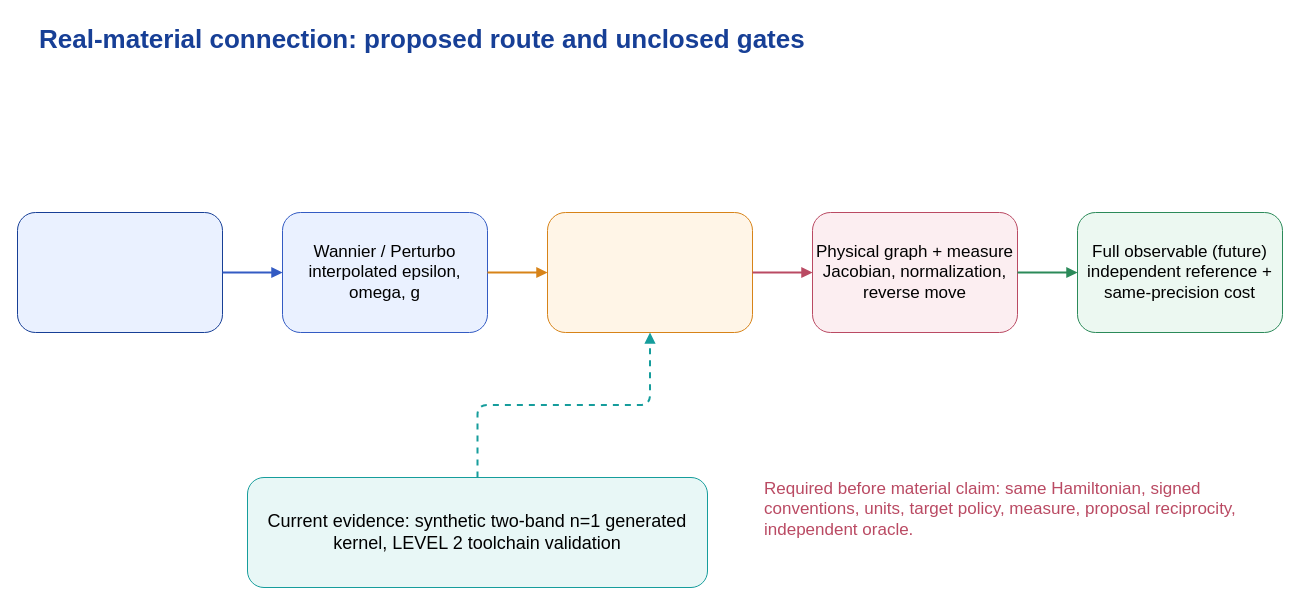
The diagram is 1300 pixels wide and 605 high, and some of its shapes have lost their labels. The box of each missing label's shape, as (x1, y1, x2, y2) in pixels:
Provider adapter (future) units, gauge, band/mode ABI: (546, 212, 752, 332)
QE / DFPT bands, phonons, coarse e-ph: (16, 212, 222, 332)
